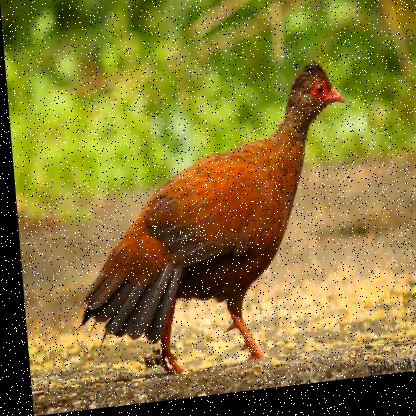Burung: (61, 63, 364, 383)
